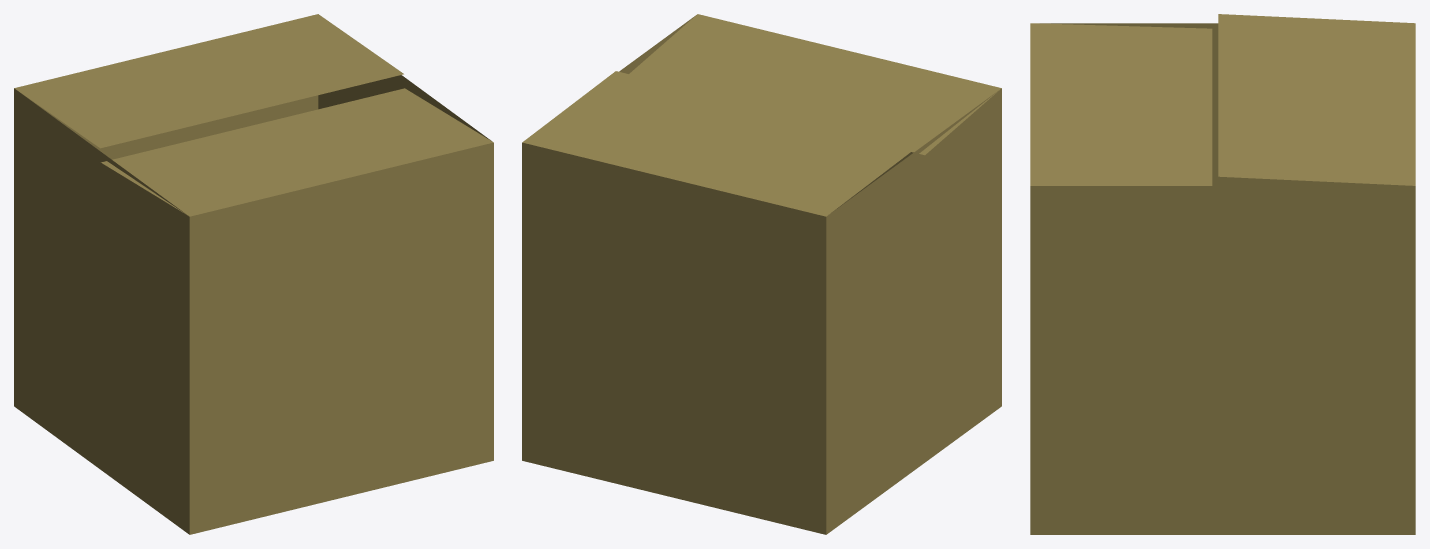
3 views of the same model, side by side, from view 1: azimuth 30°, elevation 25°; view 2: azimuth 150°, elevation 25°; view 3: azimuth 270°, elevation 25° (orthographic). The views are drawn at different scales.
Parts seen in each view (by area): view 1: Cube; view 2: Cube; view 3: Cube.
Boxes of the visible parts, x1,y1,x2,y2 form: Cube: (14, 14, 493, 534); Cube: (522, 14, 1001, 534); Cube: (1030, 14, 1415, 534).
Bounding box in the file's own units: 204 × 204 × 200.
